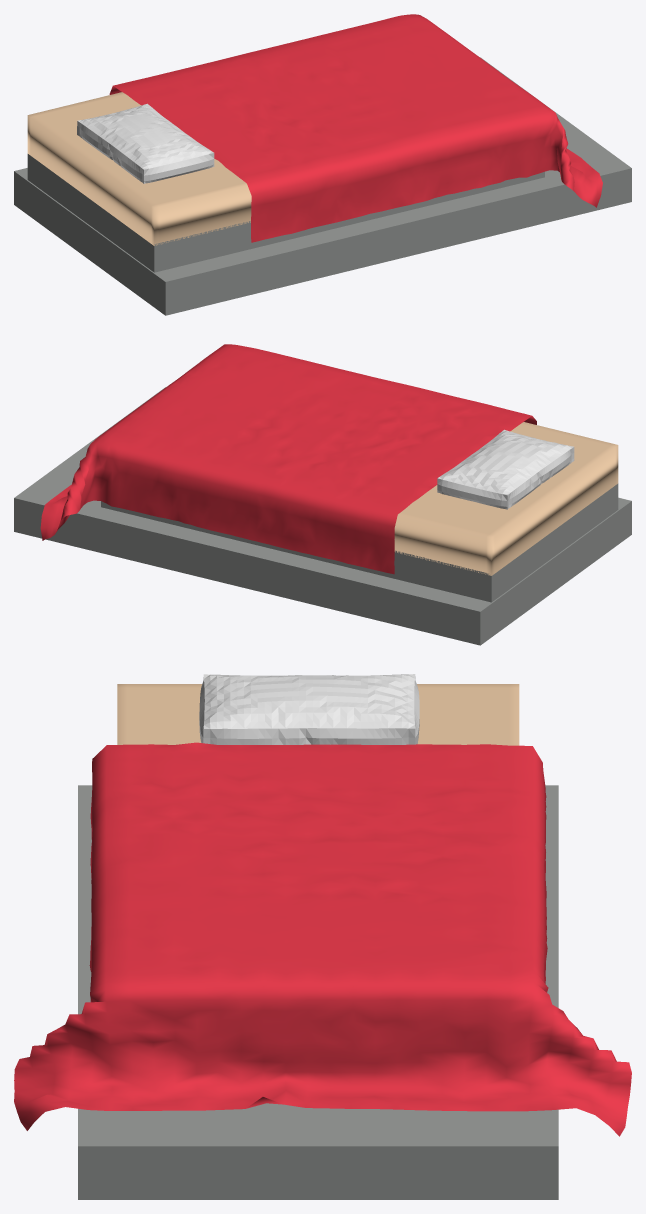
Rendered from camacobertorcolchaojuntoarrumado.dae.
The picture shows the model from 3 angles, top to bottom: view 1: azimuth 30°, elevation 25°; view 2: azimuth 150°, elevation 25°; view 3: azimuth 270°, elevation 25°; orthographic projection. The views are drawn at different scales.
Visible parts, largest first — view 1: Plane, Cube, Cube.002; view 2: Plane, Cube, Cube.002; view 3: Plane, Cube, Cube.002.
Part boxes in pixels (<box>): Plane: <box>27,14,602,245</box>; Cube: <box>14,57,631,315</box>; Cube.002: <box>77,103,214,183</box>; Plane: <box>40,344,618,575</box>; Cube: <box>14,387,631,645</box>; Cube.002: <box>437,429,574,509</box>; Plane: <box>14,684,631,1136</box>; Cube: <box>78,785,558,1199</box>; Cube.002: <box>199,674,419,744</box>.
Size of the model in its own units: 9.38 by 6.79 by 2.32.
